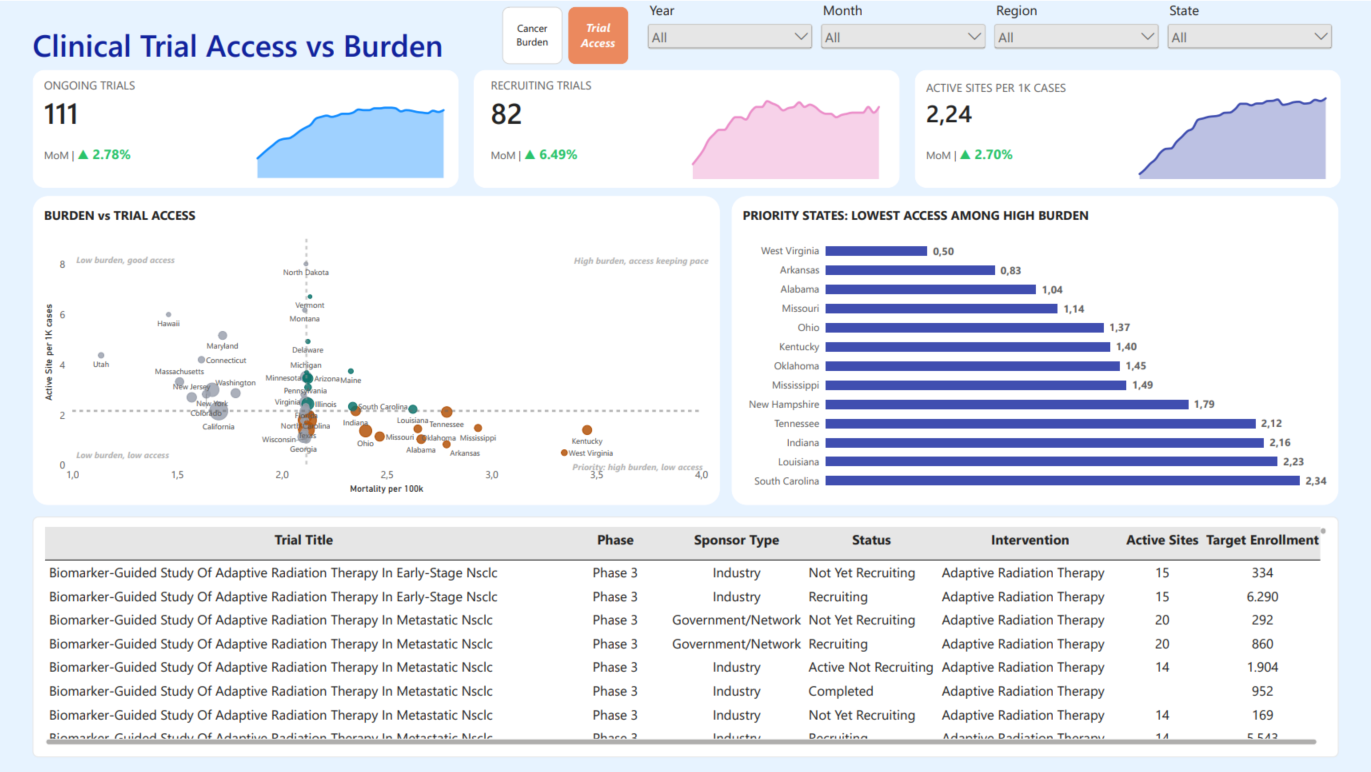

This screenshot's page, from the dashboard's own definition file:
{"tool":"powerbi","page":{"name":"Trial Access","canvas":[1920,1080],"ordinal":1},"visuals":[{"type":"shape","box":[48,96,595,165],"z":0},{"type":"textbox","box":[48,32,624,64],"z":1000},{"type":"shape","box":[664,96,595,165],"z":2000},{"type":"shape","box":[1280,96,595,165],"z":3000},{"type":"shape","box":[48,272,960,432],"z":4000},{"type":"shape","box":[1024,272,848,432],"z":5000},{"type":"shape","box":[48,720,1824,336],"z":6000},{"type":"cardVisual","fields":{"Data":["2nd_page_measures.Ongoing Trial"]},"box":[48,96,360,168],"z":7000},{"type":"lineChart","fields":{"Category":["Dim_Date.Date"],"Y":["2nd_page_measures.Ongoing Trial"]},"box":[336,96,312,168],"z":8000},{"type":"cardVisual","fields":{"Data":["2nd_page_measures.Recruiting Trials"]},"box":[672,96,360,168],"z":9000},{"type":"lineChart","fields":{"Category":["Dim_Date.Date"],"Y":["2nd_page_measures.Recruiting Trials"]},"box":[944,96,312,168],"z":10000},{"type":"cardVisual","fields":{"Data":["2nd_page_measures.Active Site Count/ 1k cases"]},"box":[1280,96,360,168],"z":11000},{"type":"lineChart","fields":{"Category":["Dim_Date.Date"],"Y":["2nd_page_measures.Active Site Count/ 1k cases"]},"box":[1568,96,312,168],"z":12000},{"type":"slicer","fields":{"Values":["Dim_Date.Year"]},"box":[902.1,0,240,96],"z":13000},{"type":"slicer","fields":{"Values":["Dim_Date.Month_Name"]},"box":[1143.9,0,240,96],"z":14000},{"type":"slicer","fields":{"Values":["Dim_State.Region"]},"box":[1385.7,0,240,96],"z":15000},{"type":"slicer","fields":{"Values":["Dim_State.Canonical_State"]},"box":[1627.5,0,240,96],"z":16000},{"type":"scatterChart","title":"BURDEN vs TRIAL ACCESS","fields":{"X":["1st_page_measures.AVG monthly Mortality/100k"],"Y":["2nd_page_measures.Active Site Count/ 1k cases"],"Category":["Dim_State.Canonical_State"],"Size":["2nd_page_measures.Seleted Month Cancer Cases"]},"box":[48,272,960,432],"z":17000},{"type":"clusteredBarChart","title":"PRIORITY STATES: LOWEST ACCESS AMONG HIGH BURDEN","fields":{"Category":["Dim_State.Canonical_State"],"Y":["2nd_page_measures.Active Site Count/ 1k cases"]},"box":[1024,272,848,432],"z":18000},{"type":"tableEx","fields":{"Values":["Dim_Trial.Trial_Title","Dim_Trial.Phase","Dim_Trial.Sponsor_Type","Fact_Trial.Recruitment_Status","Dim_Trial.Intervention_Name","2nd_page_measures.Active Sites","Sum(Fact_Trial.State_Enrollment_Target)"]},"box":[48,720,1824,336],"z":19000},{"type":"pageNavigator","box":[704,8,176,80],"z":20000},{"type":"textbox","box":[792,640,192,32],"z":21000},{"type":"textbox","box":[800,352,192,32],"z":22000},{"type":"textbox","box":[109.4,351.4,160,32],"z":23000},{"type":"textbox","box":[109.4,623.4,192,32],"z":24000}]}

Visuals, with their boxes in screenshot pixels (x1, y1, x2, y2), scaled from the page's 1920x1080 canvas onto the 1371x772 screenshot:
shape: <bbox>34, 69, 459, 187</bbox>
textbox: <bbox>34, 23, 480, 69</bbox>
shape: <bbox>474, 69, 899, 187</bbox>
shape: <bbox>914, 69, 1339, 187</bbox>
shape: <bbox>34, 194, 720, 503</bbox>
shape: <bbox>731, 194, 1337, 503</bbox>
shape: <bbox>34, 515, 1337, 755</bbox>
cardVisual - 2nd_page_measures.Ongoing Trial: <bbox>34, 69, 291, 189</bbox>
lineChart - Dim_Date.Date x 2nd_page_measures.Ongoing Trial: <bbox>240, 69, 463, 189</bbox>
cardVisual - 2nd_page_measures.Recruiting Trials: <bbox>480, 69, 737, 189</bbox>
lineChart - Dim_Date.Date x 2nd_page_measures.Recruiting Trials: <bbox>674, 69, 897, 189</bbox>
cardVisual - 2nd_page_measures.Active Site Count/ 1k cases: <bbox>914, 69, 1171, 189</bbox>
lineChart - Dim_Date.Date x 2nd_page_measures.Active Site Count/ 1k cases: <bbox>1120, 69, 1342, 189</bbox>
slicer - Dim_Date.Year: <bbox>644, 0, 816, 69</bbox>
slicer - Dim_Date.Month_Name: <bbox>817, 0, 988, 69</bbox>
slicer - Dim_State.Region: <bbox>989, 0, 1161, 69</bbox>
slicer - Dim_State.Canonical_State: <bbox>1162, 0, 1334, 69</bbox>
"BURDEN vs TRIAL ACCESS" scatterChart: <bbox>34, 194, 720, 503</bbox>
"PRIORITY STATES: LOWEST ACCESS AMONG HIGH BURDEN" clusteredBarChart: <bbox>731, 194, 1337, 503</bbox>
tableEx - Dim_Trial.Trial_Title x Dim_Trial.Phase: <bbox>34, 515, 1337, 755</bbox>
pageNavigator: <bbox>503, 6, 628, 63</bbox>
textbox: <bbox>566, 457, 703, 480</bbox>
textbox: <bbox>571, 252, 708, 274</bbox>
textbox: <bbox>78, 251, 192, 274</bbox>
textbox: <bbox>78, 446, 215, 468</bbox>
